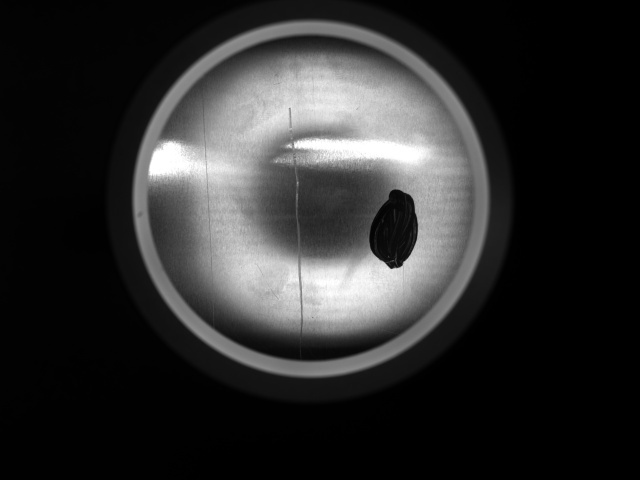ca_shang: (197, 84, 222, 324), (285, 106, 309, 337)
zang_wu: (366, 188, 419, 272)
